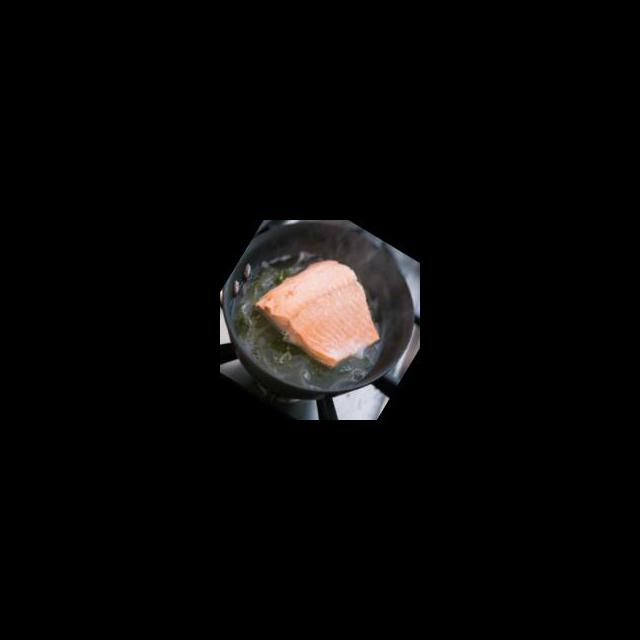ca hoi: (243, 232, 406, 386)
